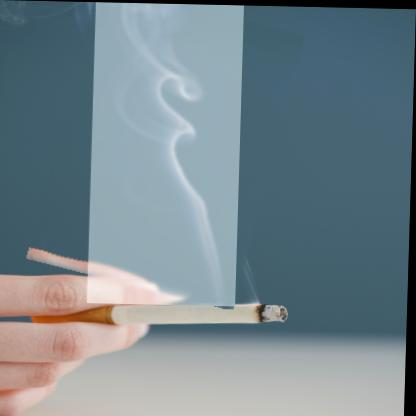smoke: (94, 2, 237, 305)
